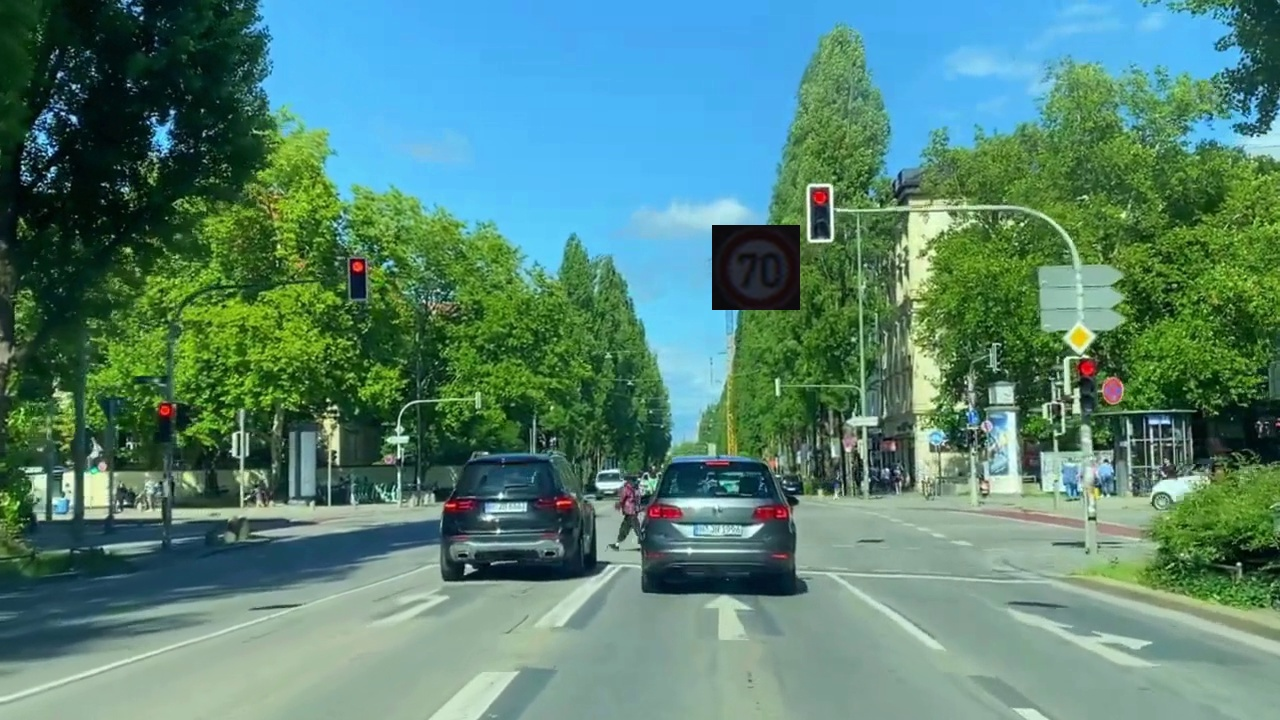Speed 70: (712, 225, 800, 310)
